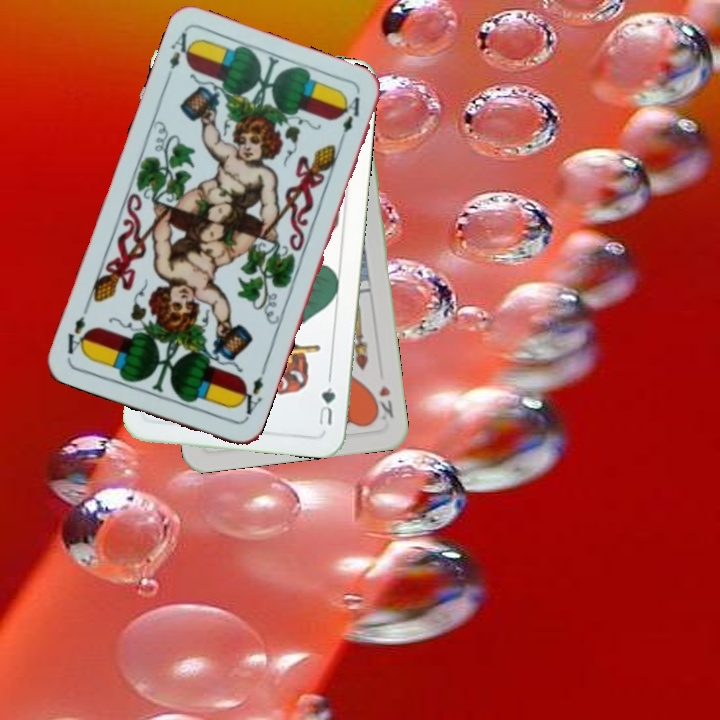EA: (162, 27, 198, 85), (233, 372, 266, 422)
GU: (314, 373, 338, 428)
HK: (369, 381, 397, 423)
